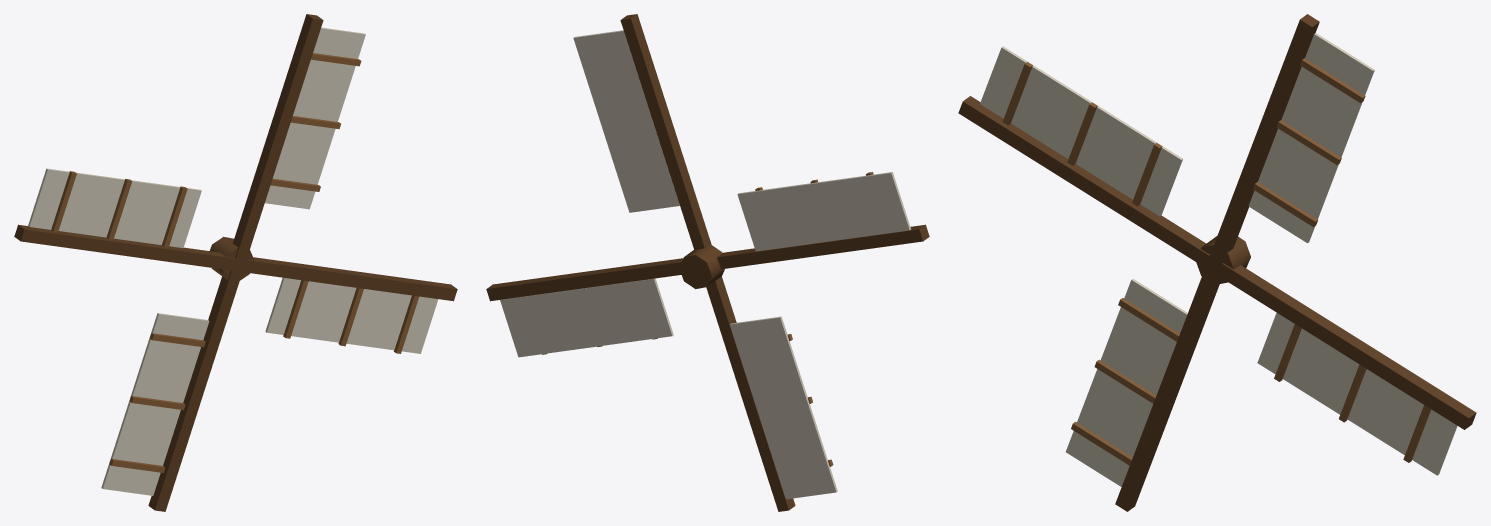
Rendered from crf_sails.glb.
3 renders of one model, left to right at view 1: azimuth 30°, elevation 25°; view 2: azimuth 150°, elevation 25°; view 3: azimuth 330°, elevation 25°, orthographic. The views are drawn at different scales.
Parts seen in each view (by area): view 1: crf_sails; view 2: crf_sails; view 3: crf_sails.
Boxes of the visible parts, left/top/right/bottom form: crf_sails: left=14, top=14, right=457, bottom=511; crf_sails: left=486, top=14, right=929, bottom=511; crf_sails: left=958, top=14, right=1476, bottom=511.
Bounding box in the file's own units: 0.853 × 0.853 × 0.053.
